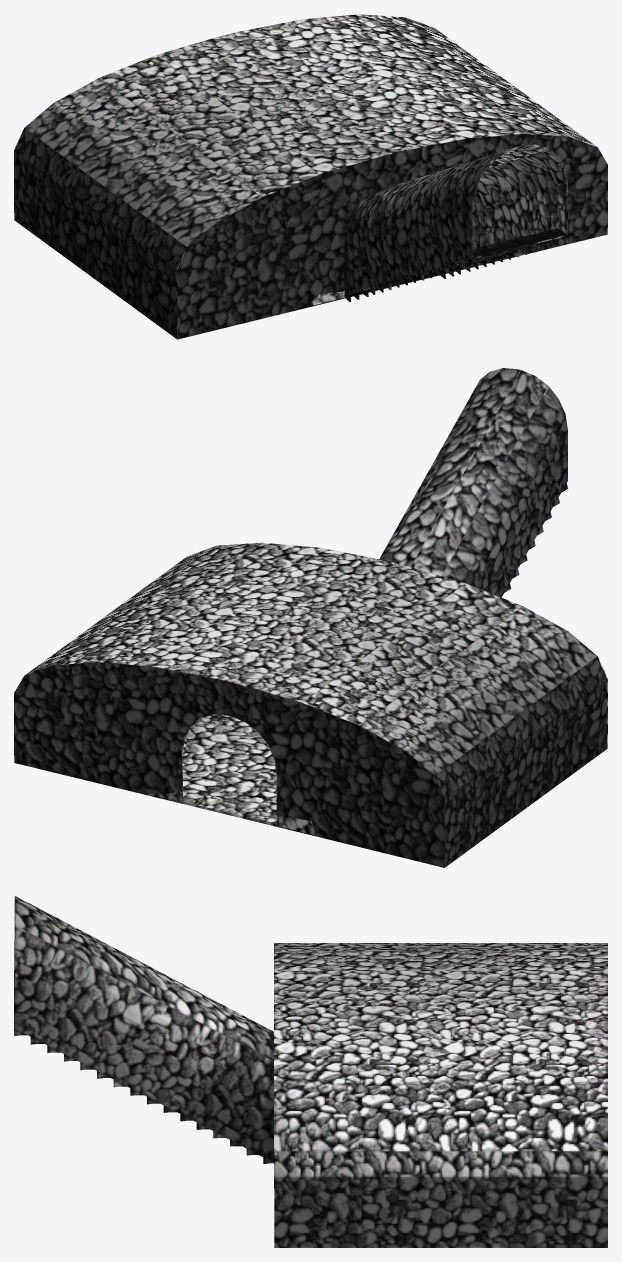
The model's file is StairRoom.fbx.
3 renders of one model, top to bottom at view 1: azimuth 30°, elevation 25°; view 2: azimuth 150°, elevation 25°; view 3: azimuth 270°, elevation 25°, orthographic. The views are drawn at different scales.
Parts seen in each view (by area): view 1: Stairs; view 2: Stairs; view 3: Stairs.
Part boxes in pixels (x1,y1,x2,y2): Stairs: (14,14,607,339); Stairs: (14,368,607,867); Stairs: (14,896,607,1247).
Size of the model in its own units: 918 by 476 by 1072.
